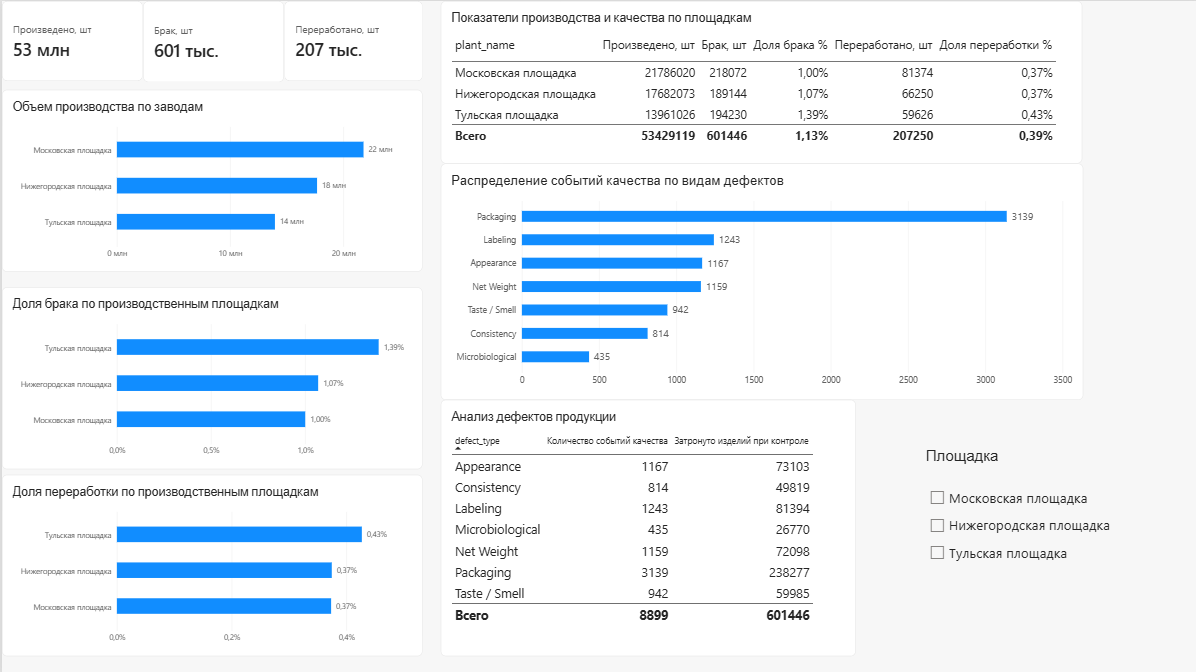

What the dashboard file says about the page in this screenshot:
{"tool":"powerbi","page":{"name":"Производство и качество","canvas":[1920,1080],"ordinal":2},"visuals":[{"type":"cardVisual","fields":{"Data":["fact_production.Произведено, шт"]},"box":[0,0,225.7,128.6],"z":0},{"type":"cardVisual","fields":{"Data":["fact_production.Брак, шт"]},"box":[225.7,0,225.7,130],"z":1000},{"type":"cardVisual","fields":{"Data":["fact_production.Переработано, шт"]},"box":[451.4,0,221.4,128.6],"z":2000},{"type":"clusteredBarChart","title":"Объем производства по заводам","fields":{"Category":["dim_plant.plant_name"],"Y":["fact_production.Произведено, шт"]},"box":[0,142.9,672.9,291.4],"z":3000},{"type":"clusteredBarChart","title":"Доля брака по производственным площадкам","fields":{"Category":["dim_plant.plant_name"],"Y":["fact_production.Доля брака %"]},"box":[0,457.1,672.9,291.4],"z":4000},{"type":"clusteredBarChart","title":"Доля переработки по производственным площадкам","fields":{"Category":["dim_plant.plant_name"],"Y":["fact_production.Доля переработки %"]},"box":[0,758.6,672.9,290],"z":5000},{"type":"tableEx","title":"Показатели производства и качества по площадкам","fields":{"Values":["dim_plant.plant_name","fact_production.Произведено, шт","fact_production.Брак, шт","fact_production.Доля брака %","fact_production.Переработано, шт","fact_production.Доля переработки %"]},"box":[702,0,1026,260],"z":6000},{"type":"slicer","title":"Площадка","fields":{"Values":["dim_plant.plant_name"]},"box":[1478,714,355,225],"z":7000},{"type":"clusteredBarChart","title":"Распределение событий качества по видам дефектов","fields":{"Category":["fact_quality.defect_type"],"Y":["fact_quality.Количество событий качества"]},"box":[702,260,1028,378],"z":8000},{"type":"tableEx","title":"Анализ дефектов продукции","fields":{"Values":["fact_quality.defect_type","fact_quality.Количество событий качества","fact_quality.Затронуто изделий при контроле"]},"box":[702,638,664,410],"z":8001}]}

Visuals, with their boxes in screenshot pixels (x1, y1, x2, y2), scaled from the page's 1920x1080 canvas onto the 1196x672 screenshot:
cardVisual - fact_production.Произведено, шт: <bbox>0, 0, 141, 80</bbox>
cardVisual - fact_production.Брак, шт: <bbox>141, 0, 281, 81</bbox>
cardVisual - fact_production.Переработано, шт: <bbox>281, 0, 419, 80</bbox>
"Объем производства по заводам" clusteredBarChart: <bbox>0, 89, 419, 270</bbox>
"Доля брака по производственным площадкам" clusteredBarChart: <bbox>0, 284, 419, 466</bbox>
"Доля переработки по производственным площадкам" clusteredBarChart: <bbox>0, 472, 419, 652</bbox>
"Показатели производства и качества по площадкам" tableEx: <bbox>437, 0, 1076, 162</bbox>
"Площадка" slicer: <bbox>921, 444, 1142, 584</bbox>
"Распределение событий качества по видам дефектов" clusteredBarChart: <bbox>437, 162, 1078, 397</bbox>
"Анализ дефектов продукции" tableEx: <bbox>437, 397, 851, 652</bbox>
